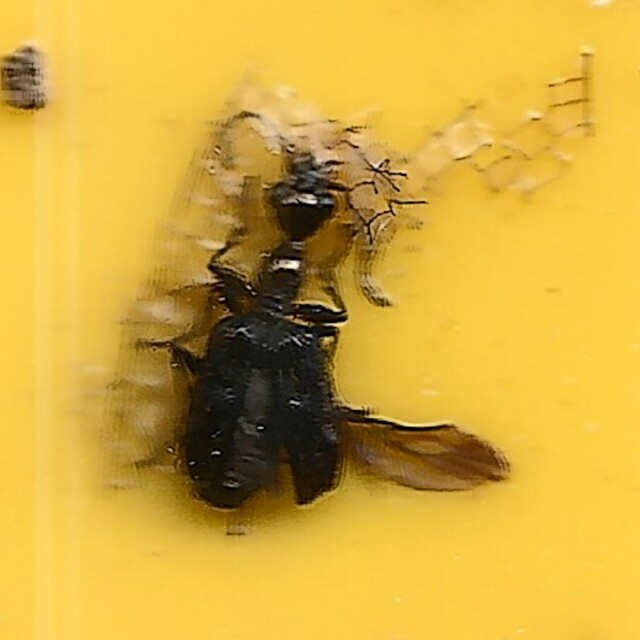Coleoptera: (124, 121, 516, 519)
